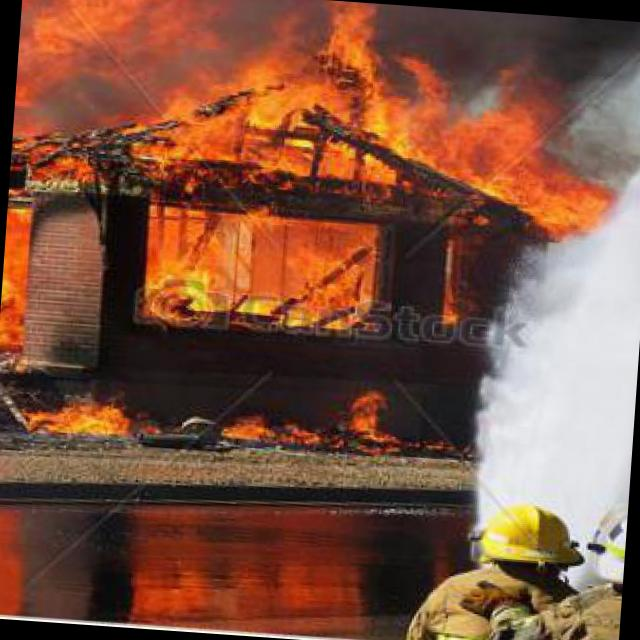fire: (132, 222, 375, 334), (224, 378, 406, 464), (19, 362, 145, 452)
